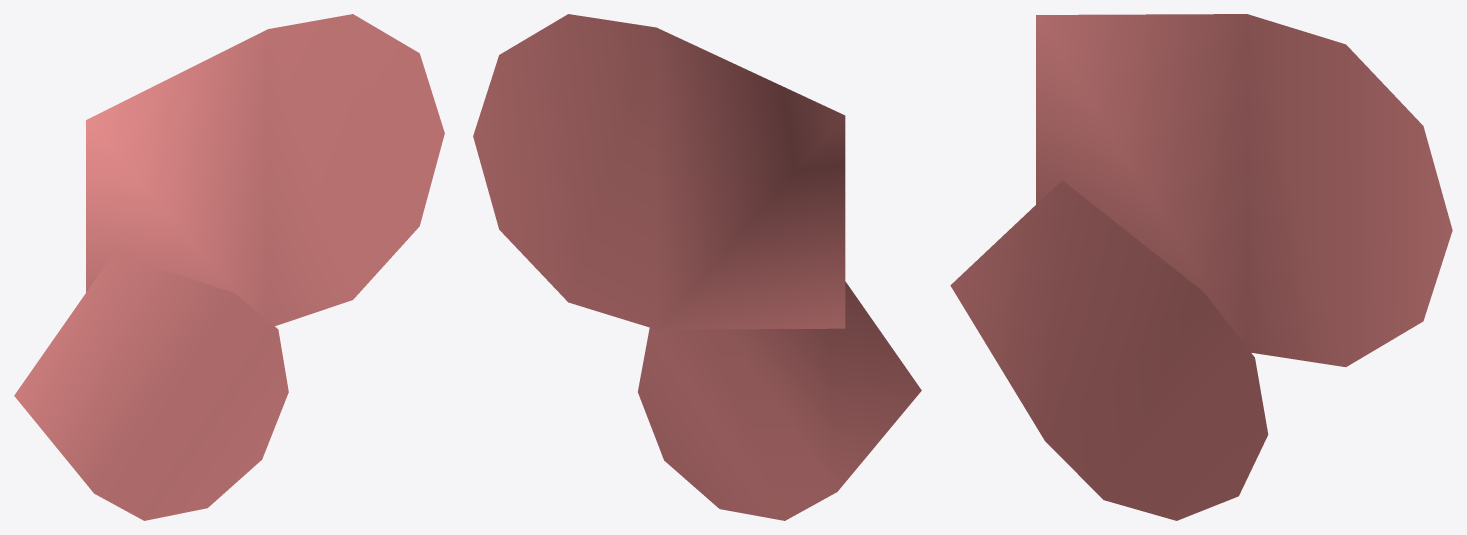
Rendered from entity822424.gltf.
3 renders of one model, left to right at view 1: azimuth 30°, elevation 25°; view 2: azimuth 150°, elevation 25°; view 3: azimuth 330°, elevation 25°, orthographic. The views are drawn at different scales.
Parts seen in each view (by area): view 1: node_mesh_butterfly_02; view 2: node_mesh_butterfly_02; view 3: node_mesh_butterfly_02.
Part boxes in pixels (x1=…): node_mesh_butterfly_02: x1=14, y1=14, x2=444, y2=520; node_mesh_butterfly_02: x1=473, y1=14, x2=921, y2=520; node_mesh_butterfly_02: x1=950, y1=14, x2=1452, y2=520.
Bounding box in the file's own units: 0.1263 × 0.1277 × 0.00354.
